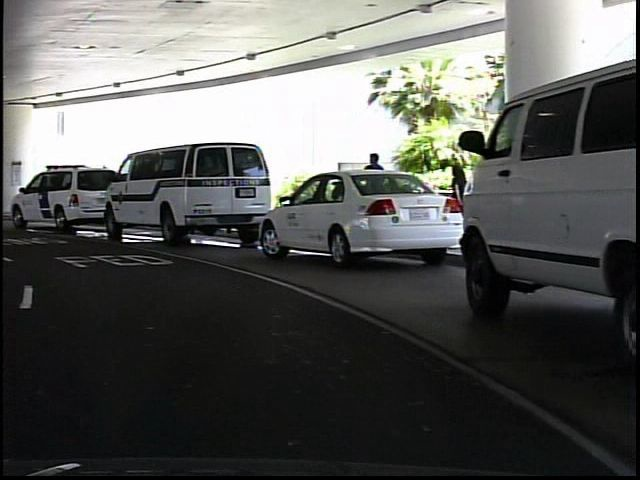person: (358, 147, 390, 236), (440, 156, 470, 247)
